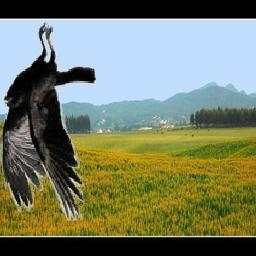Crow: (0, 19, 96, 222)
